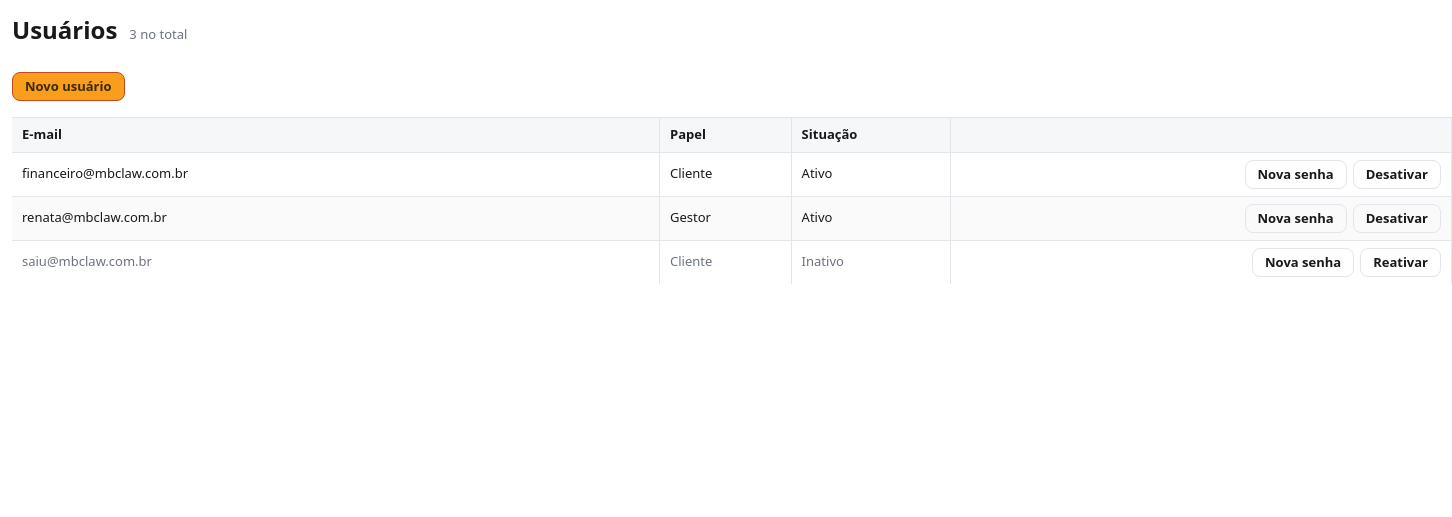
it: UsuariosPage › surfaces the API's PT-BR message when creation fails
Expected: the text "financeiro@mbclaw.com.br" is shown, [12,152,660,196]
Click the button "Novo usuário" at (68, 86), box [12,72,124,101]
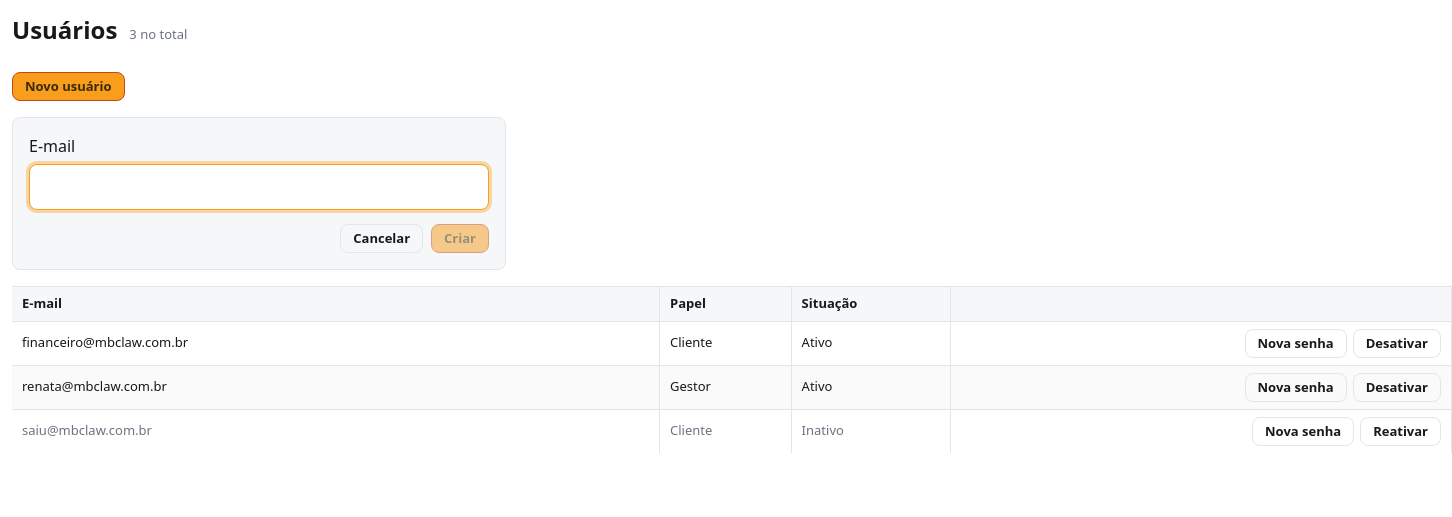
Type "financeiro@mbclaw.com.br" into the field labelled "E-mail" at (259, 187), box [29,164,489,210]
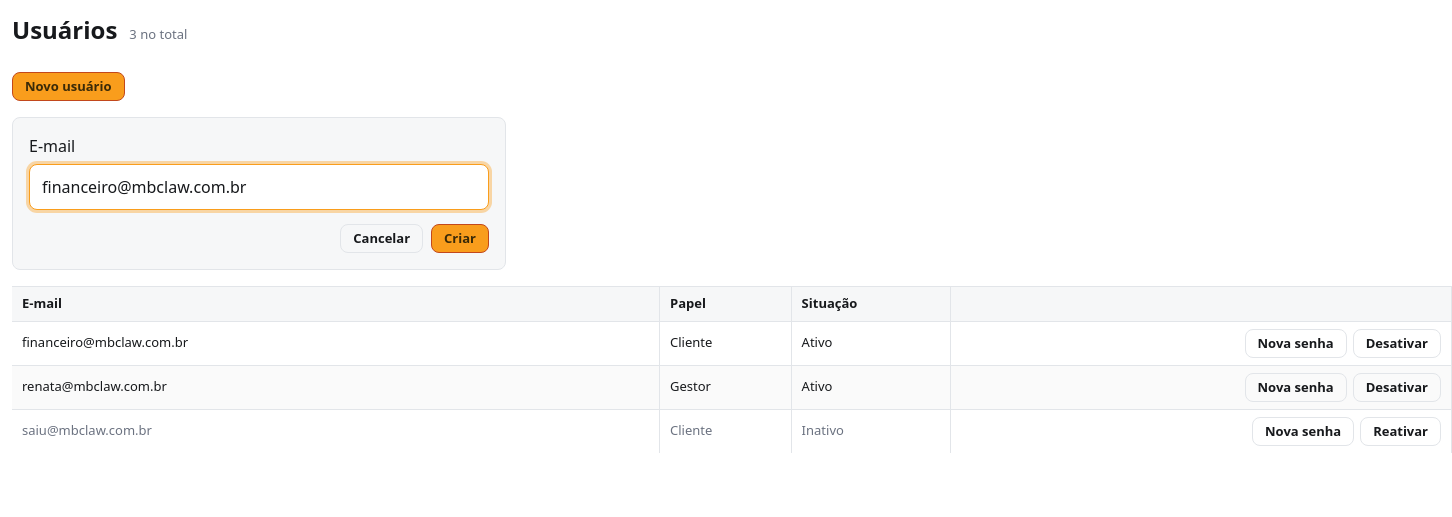
Click the button "Criar" at (460, 238), box [431,224,489,253]
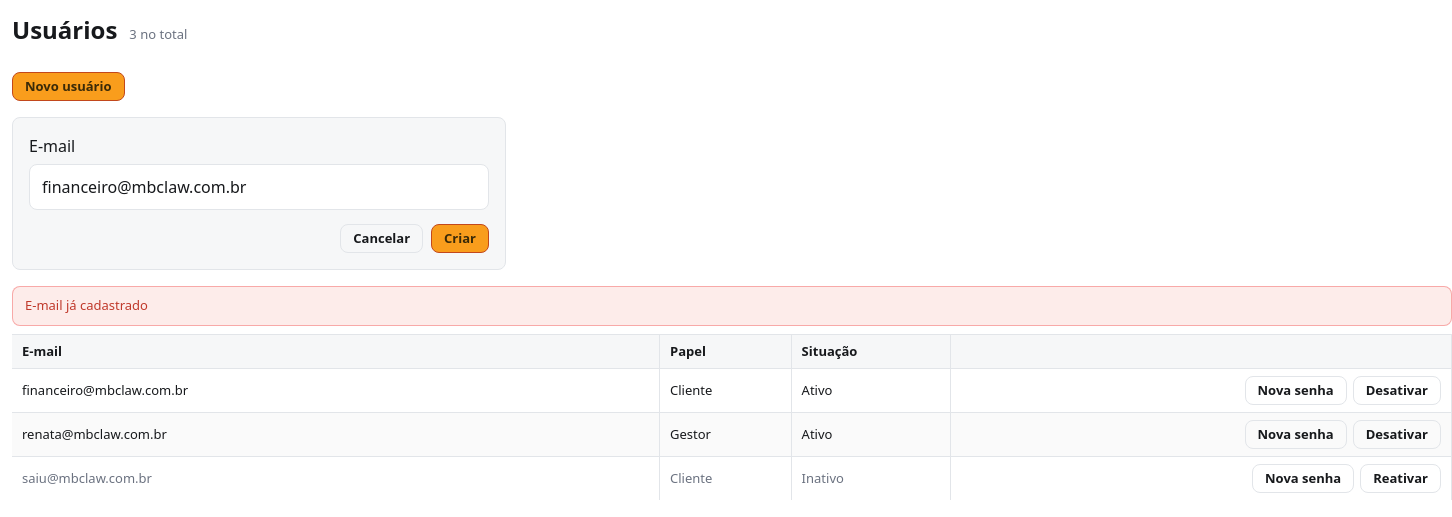
Result: the text "E-mail já cadastrado" is shown at [12,286,1451,326]
